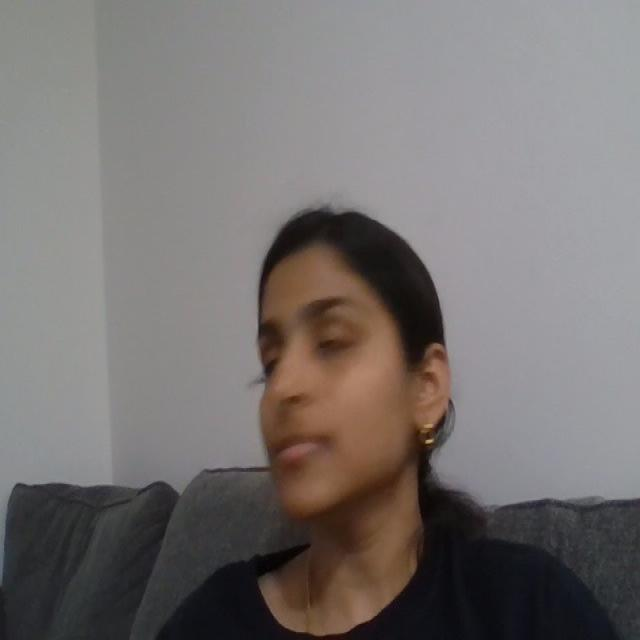No Hat: (214, 148, 437, 293)
